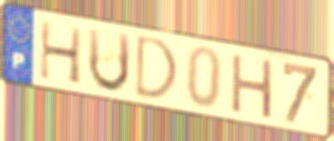0: (182, 44, 226, 113)
7: (281, 60, 320, 125)
D: (132, 33, 180, 103)
H: (230, 51, 276, 122), (38, 18, 84, 87)
U: (86, 25, 133, 95)
